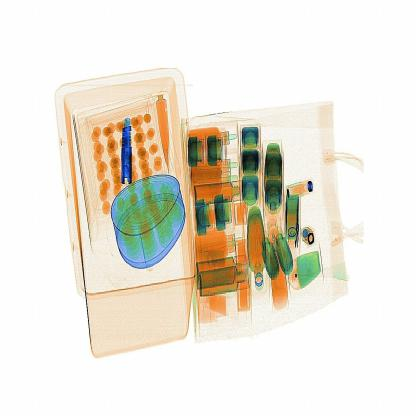pliers: (115, 114, 147, 194)
